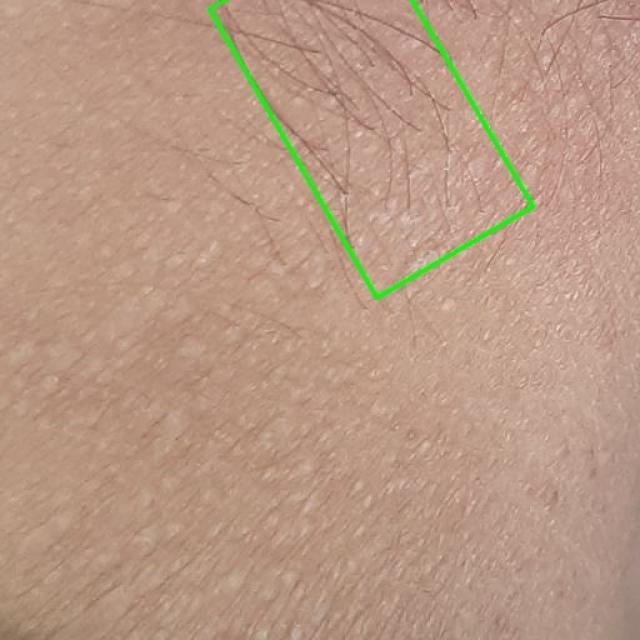Contact Dermatitis: (209, 0, 534, 298)
